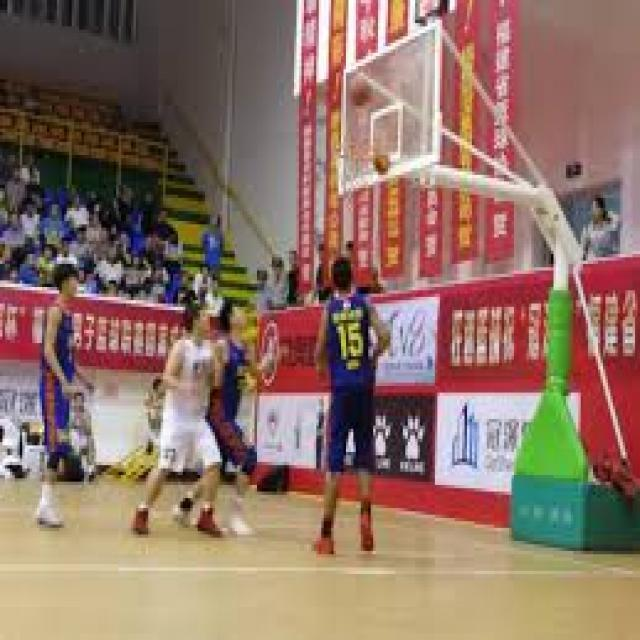rim: (348, 72, 374, 106)
